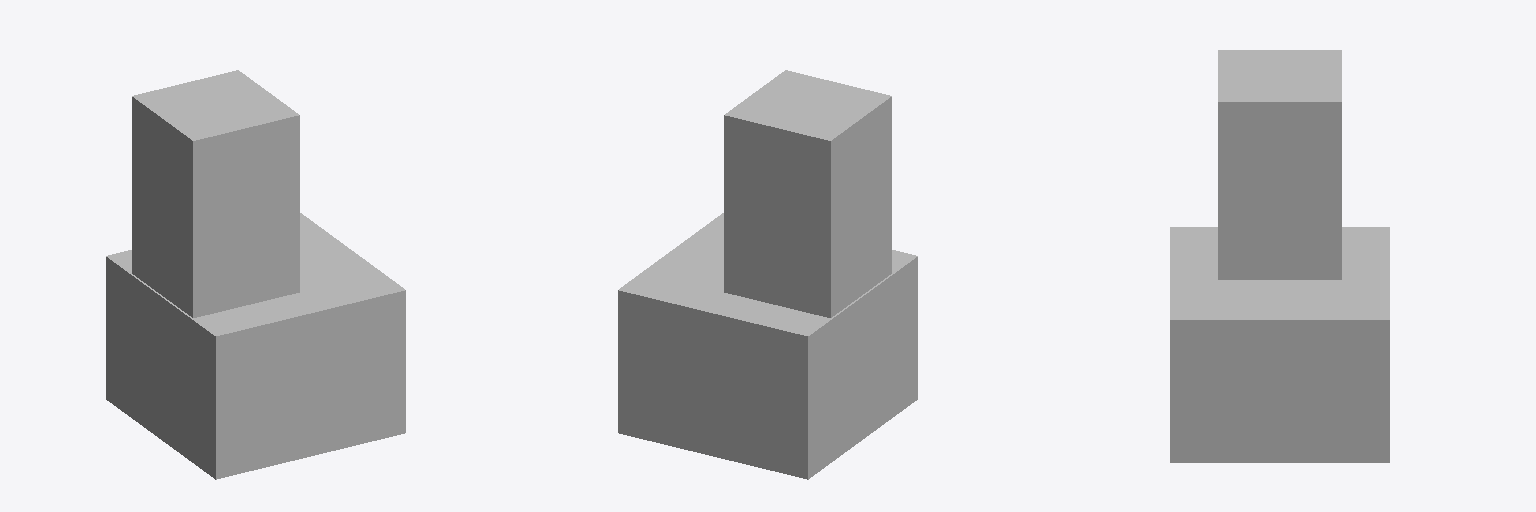
File: buildings009 (274).obj
3 views of the same model, side by side, from view 1: azimuth 30°, elevation 25°; view 2: azimuth 150°, elevation 25°; view 3: azimuth 270°, elevation 25° (orthographic).
Visible parts, largest first — view 1: buildings009 (274); view 2: buildings009 (274); view 3: buildings009 (274).
Boxes of the visible parts, x1,y1,x2,y2 form: buildings009 (274): [106, 70, 405, 479]; buildings009 (274): [618, 70, 917, 479]; buildings009 (274): [1170, 50, 1389, 462].
Size of the model in its own units: 6 by 9.64 by 6.